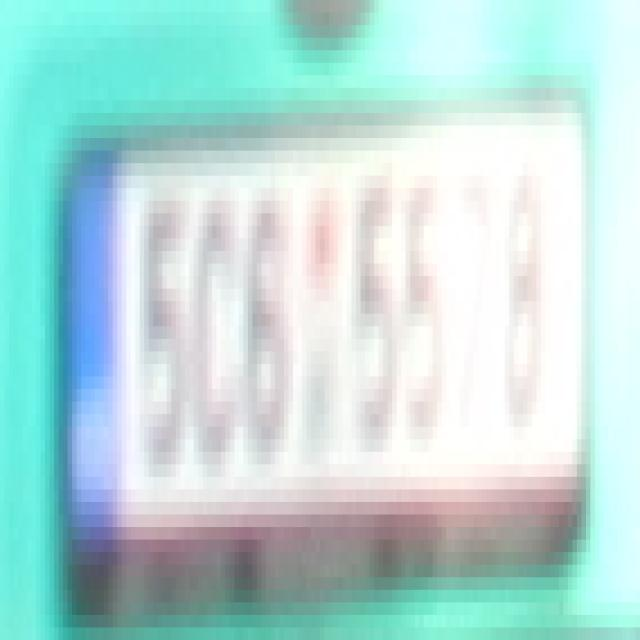5: (130, 188, 184, 464), (347, 163, 397, 439)
C: (185, 188, 239, 464)
